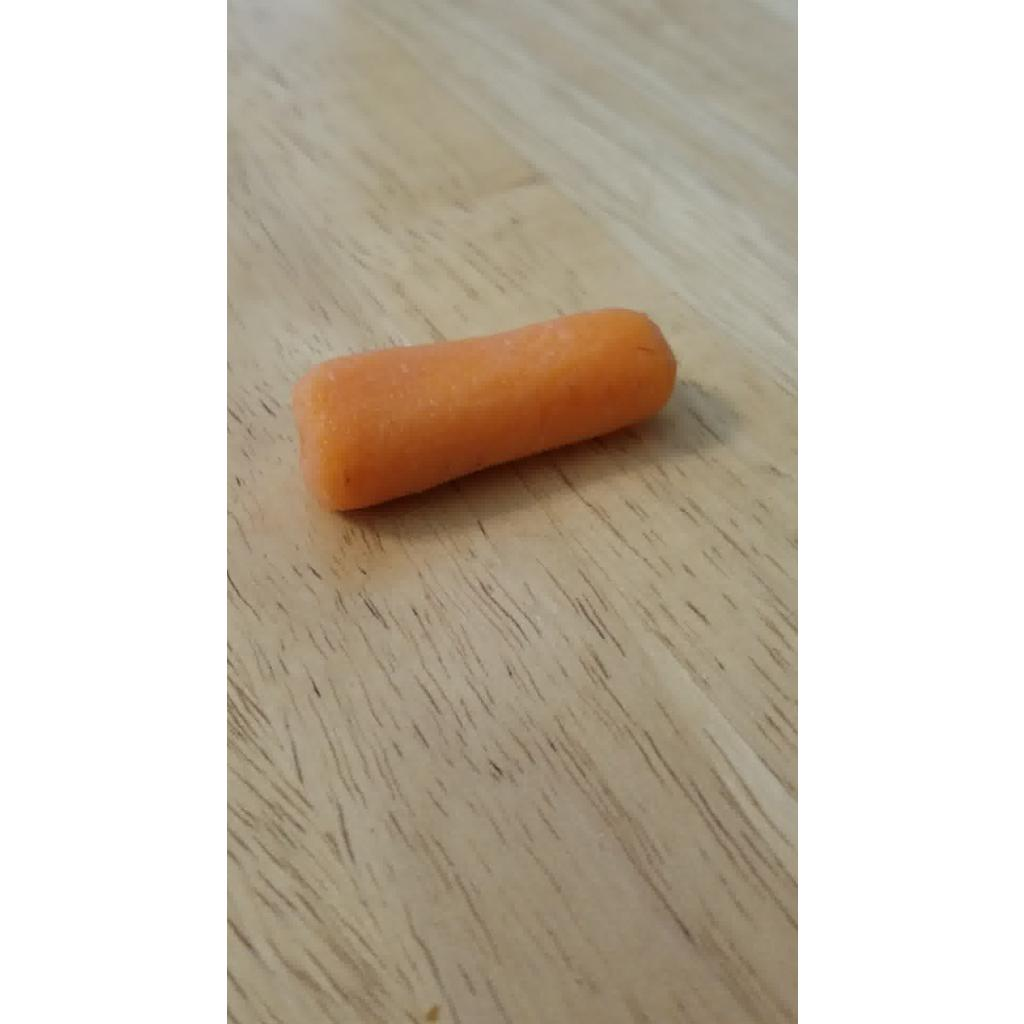carrot: (292, 310, 676, 510)
